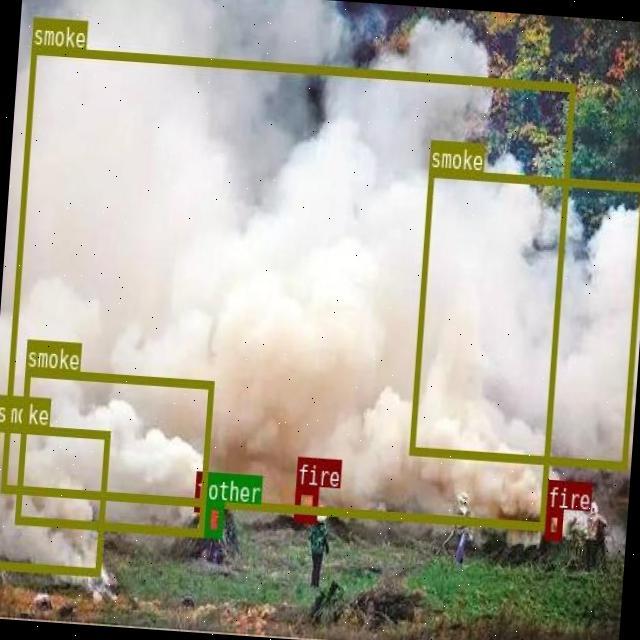fire: (293, 484, 318, 522), (544, 507, 562, 539), (193, 498, 206, 510)
smoke: (0, 44, 574, 528), (409, 167, 640, 466), (15, 366, 212, 534), (0, 421, 109, 574)
